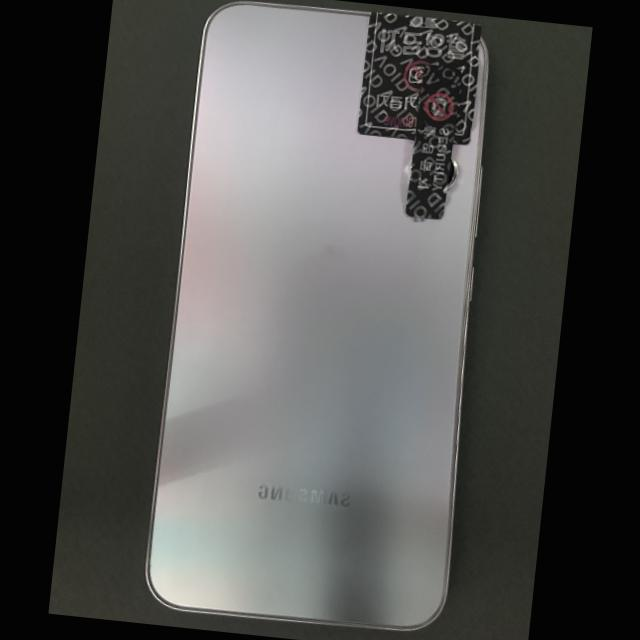lens: (446, 156, 458, 189)
phone: (145, 0, 489, 631)
sticker: (357, 11, 481, 145), (405, 64, 461, 220)
